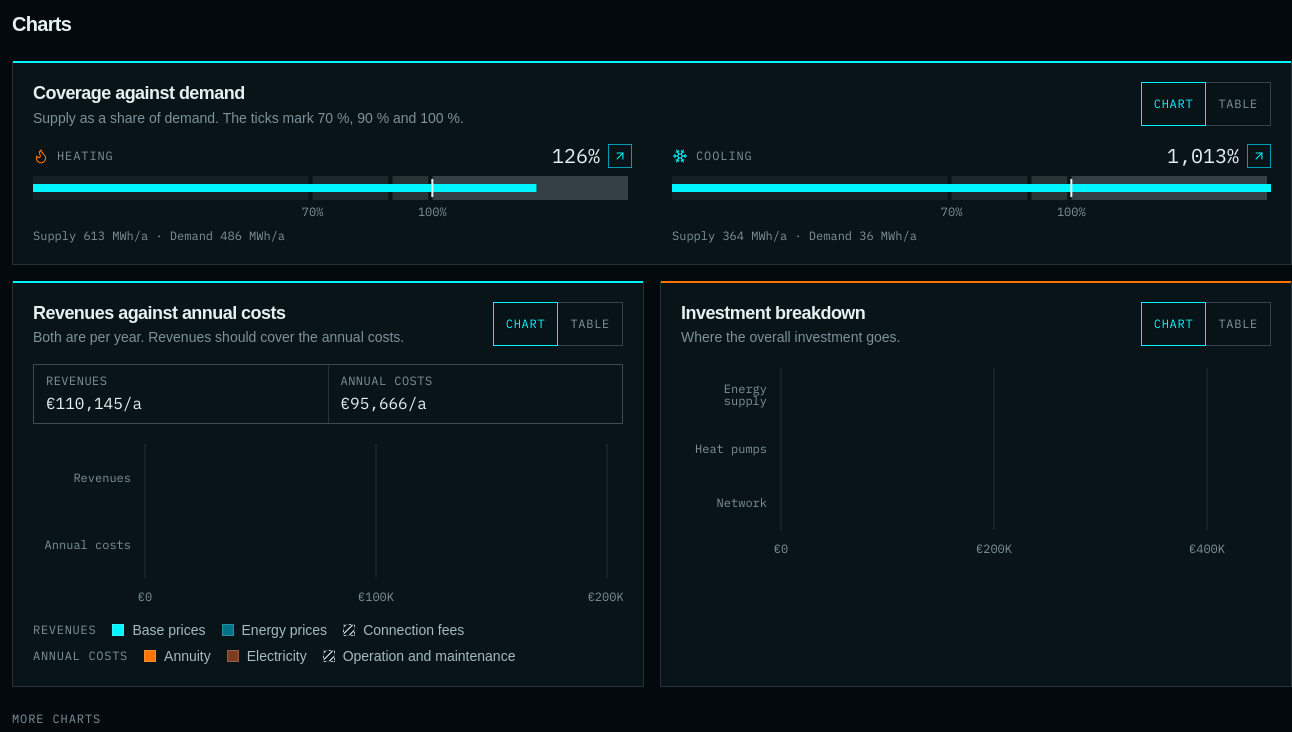
Test: ChartsSection › gives chart-investment a table view with the same numbers
Step 1. Click the radio button labelled "Table" in the row of "Where the overall investment goes." → (1238, 324), box [1205,302,1271,346]
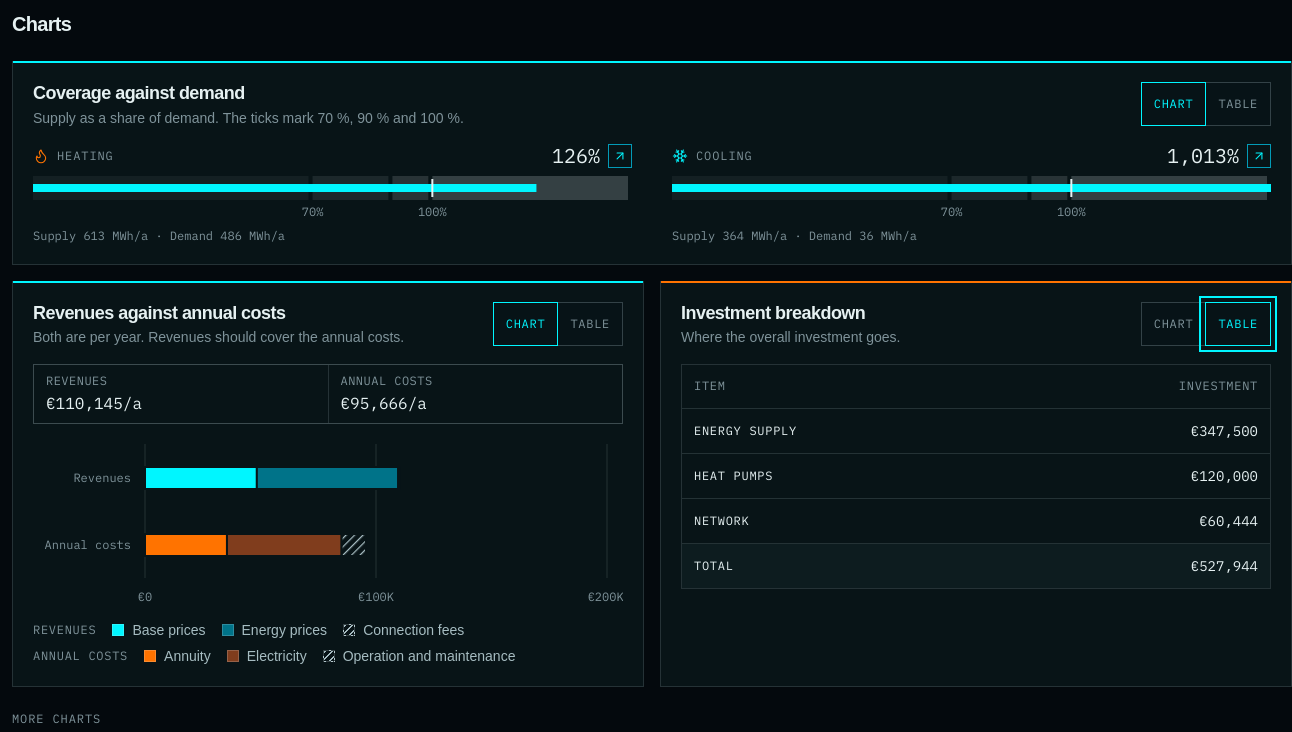
Now the table is shown, box [682,364,1270,588]
